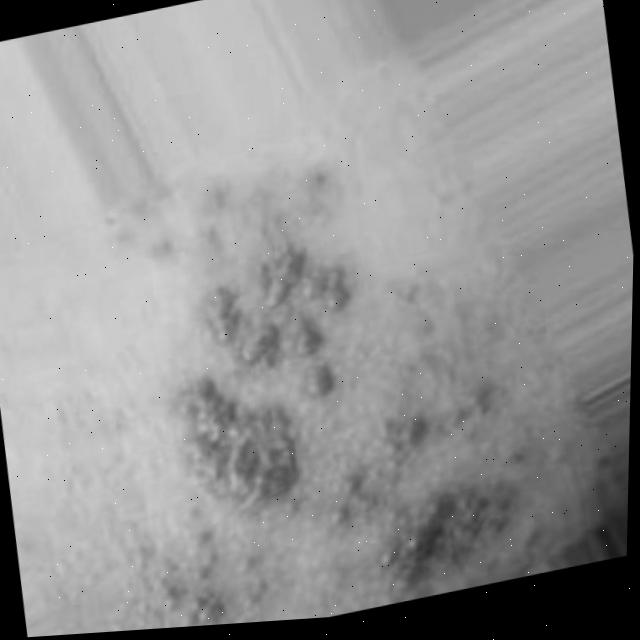Shingles: (98, 135, 512, 633)
